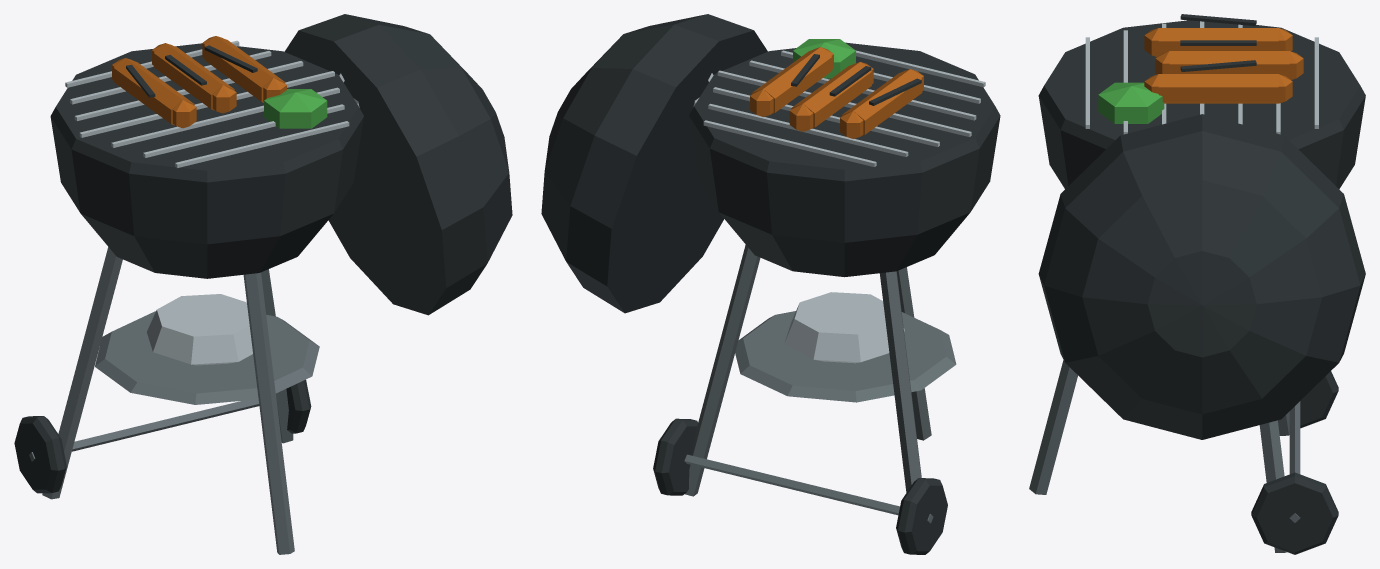
The model's file is kugelgrill.glb.
3 renders of one model, left to right at view 1: azimuth 30°, elevation 25°; view 2: azimuth 150°, elevation 25°; view 3: azimuth 270°, elevation 25°, orthographic. The views are drawn at different scales.
Visible parts, largest first — view 1: kugelgrill-m; view 2: kugelgrill-m; view 3: kugelgrill-m.
Boxes of the visible parts, x1,y1,x2,y2 form: kugelgrill-m: [14, 14, 512, 554]; kugelgrill-m: [541, 14, 1000, 554]; kugelgrill-m: [1029, 14, 1365, 554].
Size of the model in its own units: 0.9206 by 0.909 by 0.6175.
